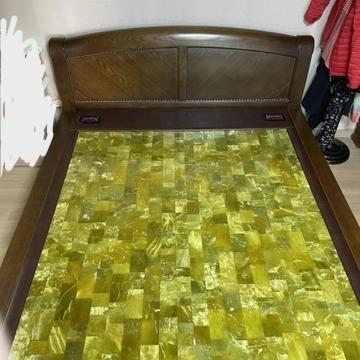Bed-Mattress: (2, 26, 360, 358)
